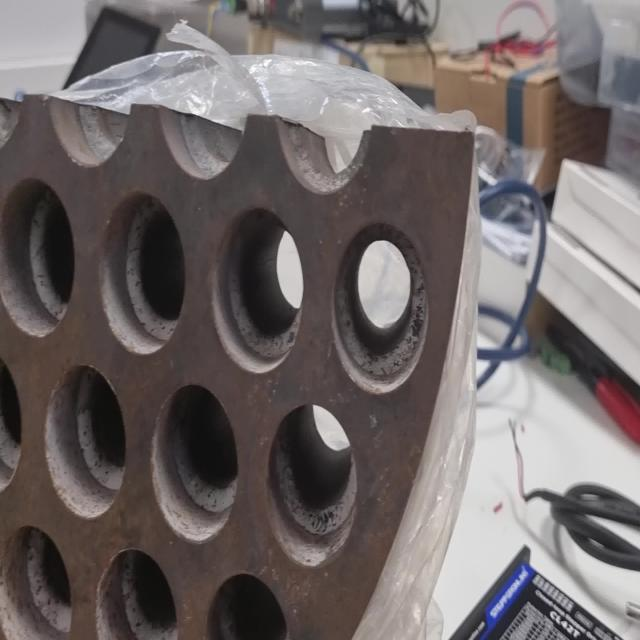Hole: (332, 219, 429, 394), (210, 207, 304, 374), (266, 402, 358, 568), (98, 192, 186, 356), (150, 382, 239, 544), (44, 364, 125, 520), (1, 176, 76, 338), (0, 522, 73, 640), (95, 545, 179, 639), (205, 569, 291, 639)
